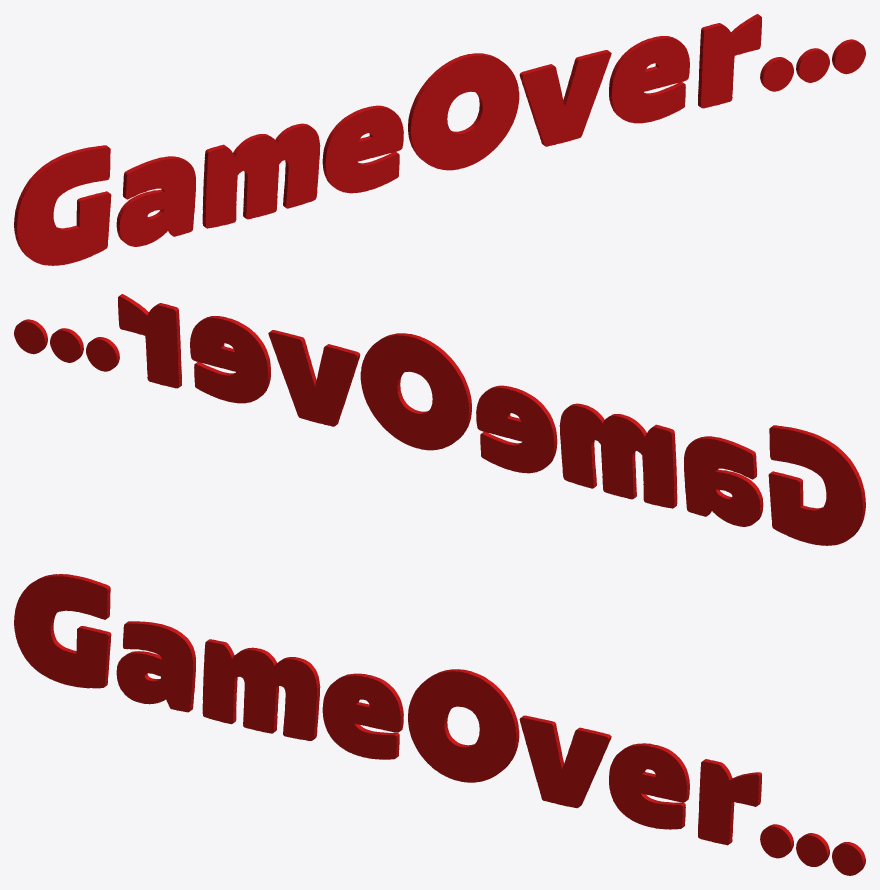
The model's file is TD_GameOver.obj.
3 views of the same model, one above another, from view 1: azimuth 30°, elevation 25°; view 2: azimuth 150°, elevation 25°; view 3: azimuth 330°, elevation 25° (orthographic).
Parts seen in each view (by area): view 1: テキスト; view 2: テキスト; view 3: テキスト.
Part boxes in pixels (x1=…): テキスト: x1=14, y1=14, x2=865, y2=265; テキスト: x1=14, y1=294, x2=865, y2=545; テキスト: x1=14, y1=574, x2=865, y2=875.
Size of the model in its own units: 12.85 by 1.59 by 0.08.
